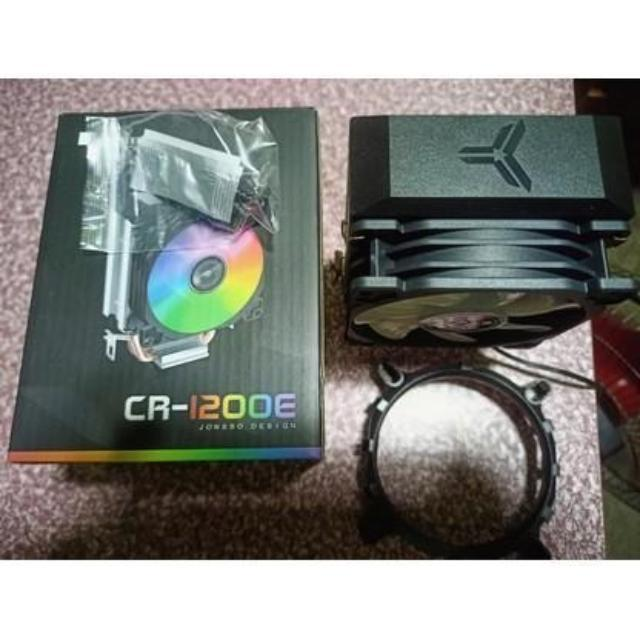CPU_Fan: (346, 116, 637, 362)
